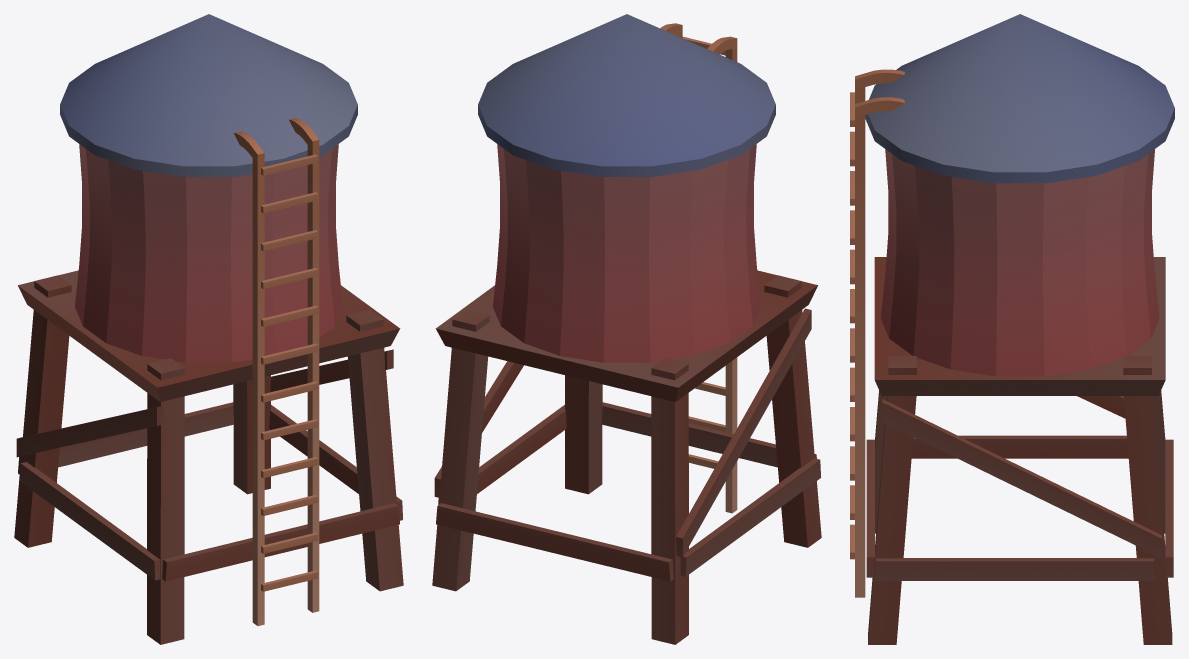
File: cistern.fbx
3 views of the same model, side by side, from view 1: azimuth 30°, elevation 25°; view 2: azimuth 150°, elevation 25°; view 3: azimuth 270°, elevation 25° (orthographic). The views are drawn at different scales.
Visible parts, largest first — view 1: cistern; view 2: cistern; view 3: cistern.
Boxes of the visible parts, x1,y1,x2,y2 form: cistern: (14, 14, 403, 644); cistern: (432, 14, 821, 644); cistern: (850, 14, 1174, 644).
Size of the model in its own units: 258 by 532 by 275.
